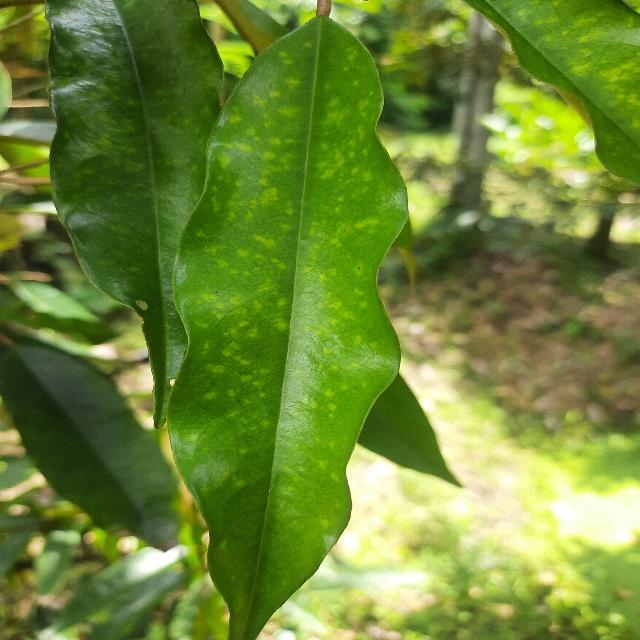Leaf Spot: (150, 0, 413, 640)
